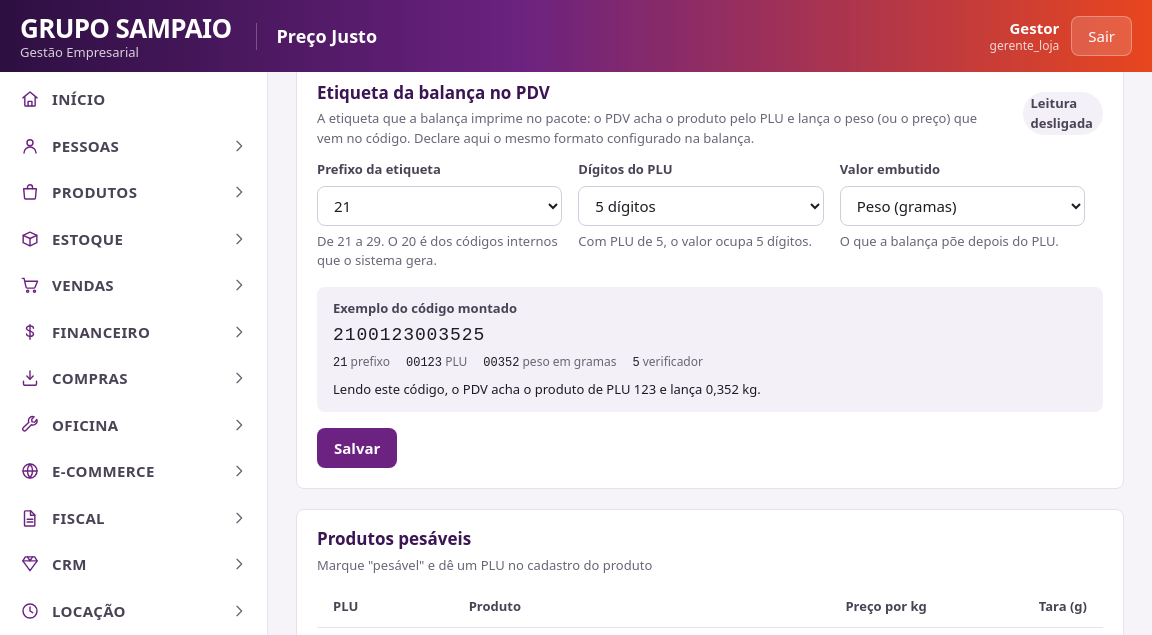
quem cadastra produtos declara a etiqueta da balança › o erro do servidor aparece no próprio bloco, e a declaração não muda
(page scrolled)
Expected: the text "Leitura desligada" is shown, [1022, 92, 1103, 135]
Click the button "Salvar".
click(357, 448)  # box [317, 428, 397, 468]
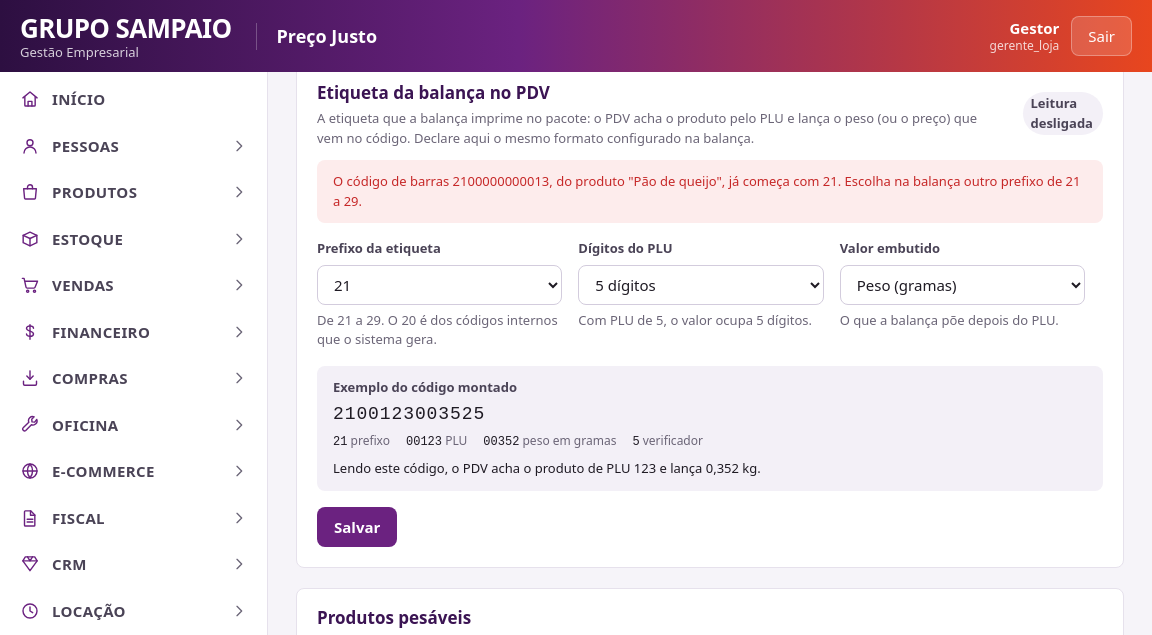
Expected: the text "Leitura desligada" is shown, [1022, 92, 1103, 135]
Now the message shows "já começa com 21", box [333, 172, 1080, 210]
// Trocou o prefixo: o erro falava do 21 recusado, e sai da tela (revisão).
Select "22" in the dropdown labelled "Prefixo da etiqueta" at (440, 284), box [317, 264, 562, 304]
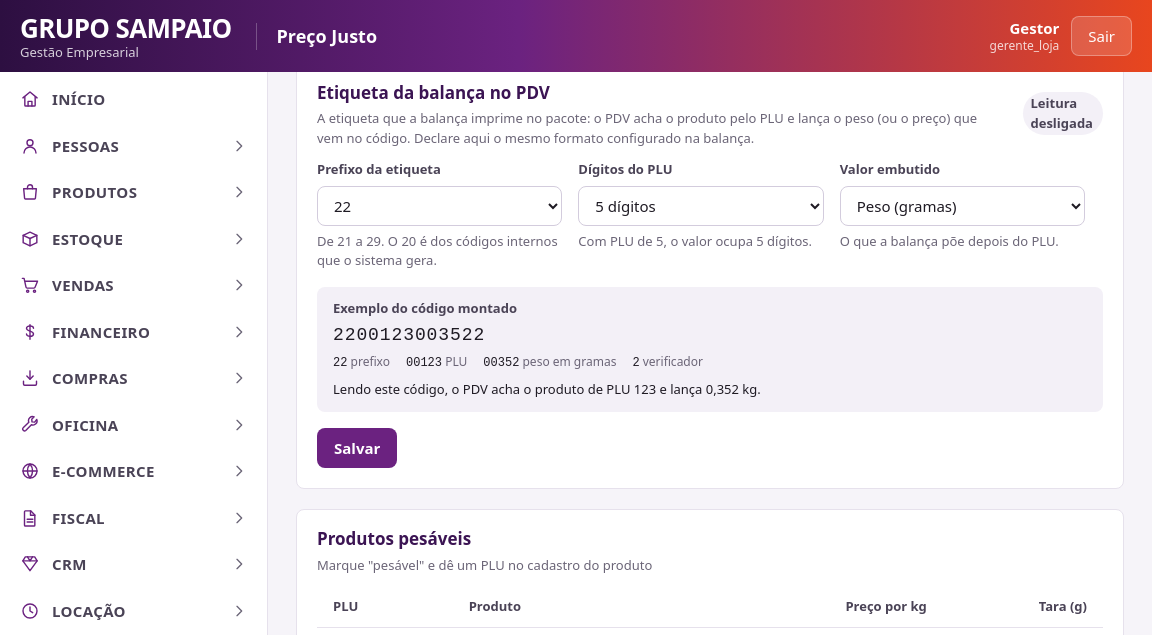
Now the message "O código de barras 2100000000013, do produto \"Pão de queijo\", já começa com 21." is gone
